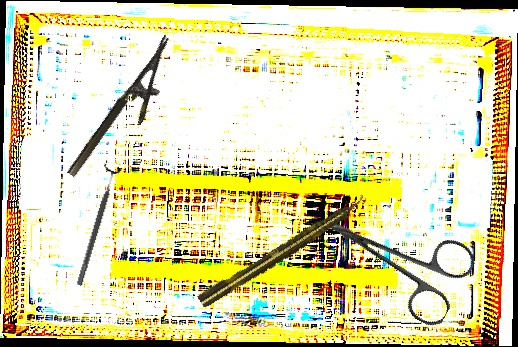Fixation Ring: (69, 163, 123, 288)
Handpiece: (195, 191, 371, 311)
Iris Scissors: (307, 181, 480, 331)
Needle Holder: (65, 35, 192, 191)
